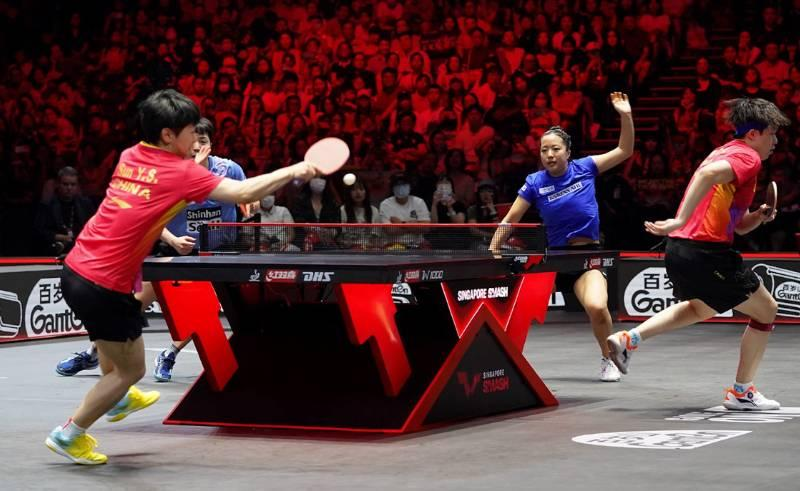ball_pingpong: (343, 173, 357, 185)
